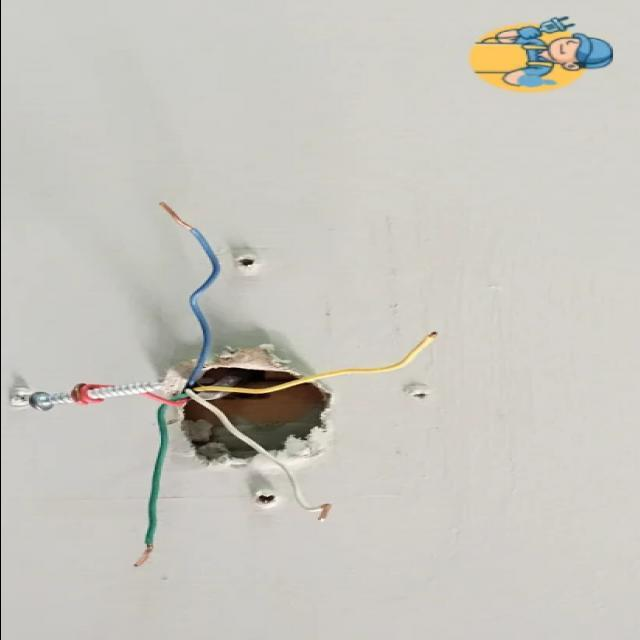Crack: (177, 361, 323, 463), (258, 490, 276, 505), (234, 260, 255, 271), (411, 389, 427, 401)
